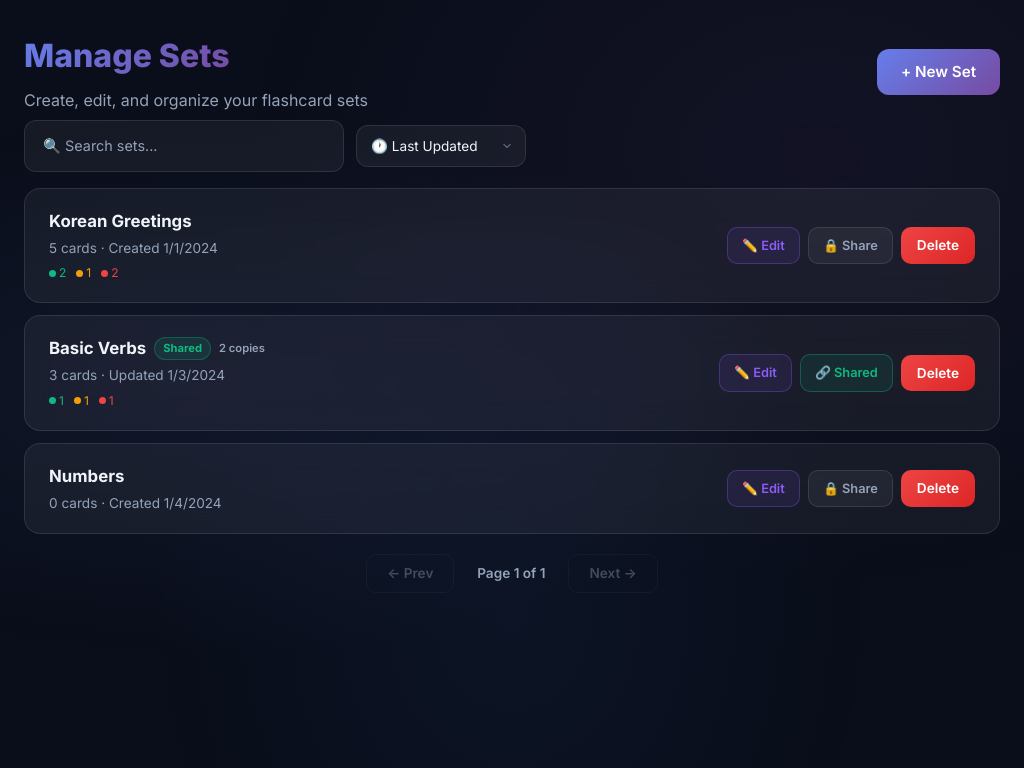
ManageSets › clicking a set card opens detail panel
This screenshot has width=1024, height=768.
Use fireEvent on the text span inside the motion.div card
Click the text "Korean Greetings".
click(120, 221)  # box x1=49 y1=209 x2=192 y2=234
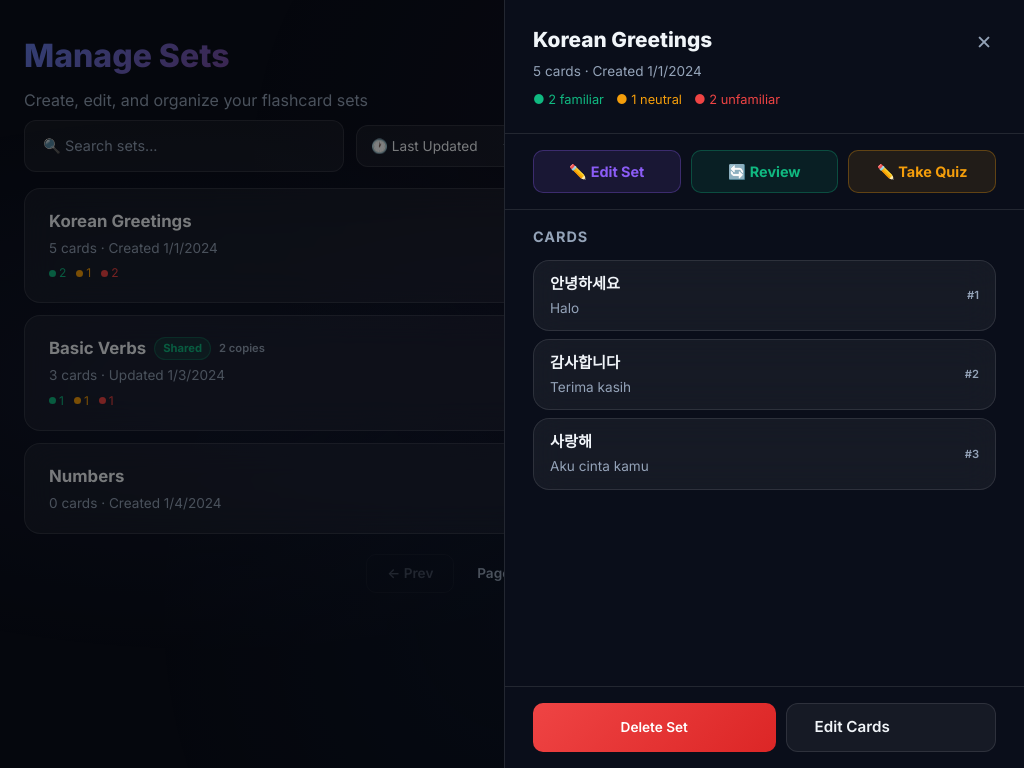
Expected: the link "✏️ Edit Set" is shown, x1=533 y1=150 x2=681 y2=193
